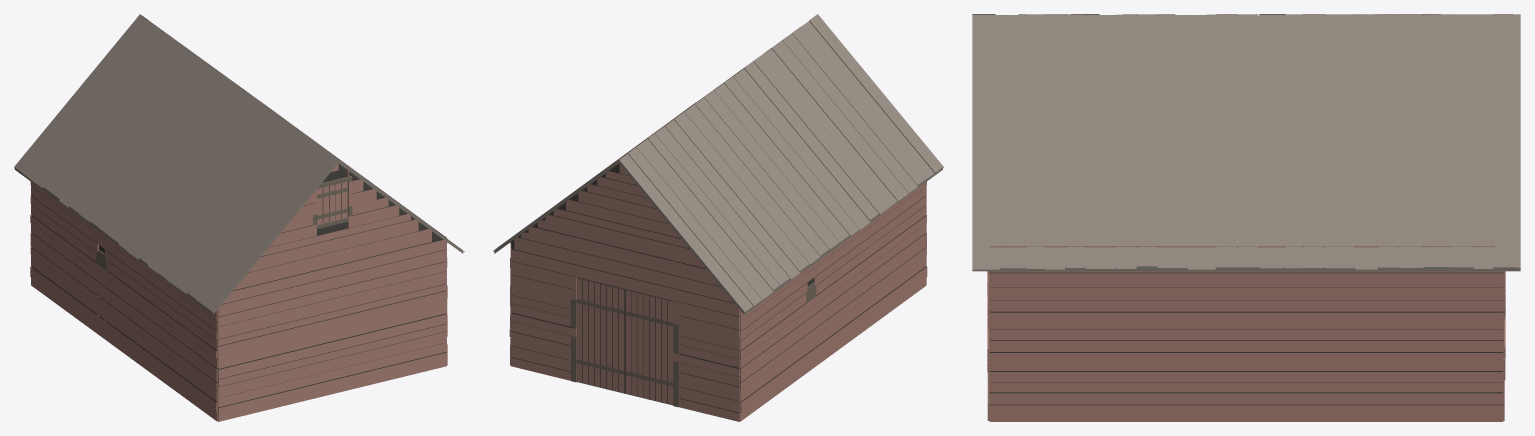
File: recon_1835_north_a2_033__inferred_1835.glb
3 views of the same model, side by side, from view 1: azimuth 30°, elevation 25°; view 2: azimuth 150°, elevation 25°; view 3: azimuth 270°, elevation 25° (orthographic). The views are drawn at different scales.
Visible parts, largest first — view 1: recon_1835_north_a2_033__inferred_1835; view 2: recon_1835_north_a2_033__inferred_1835; view 3: recon_1835_north_a2_033__inferred_1835.
Boxes of the visible parts, bbox=[...] form: recon_1835_north_a2_033__inferred_1835: bbox=[14, 14, 464, 421]; recon_1835_north_a2_033__inferred_1835: bbox=[493, 14, 943, 421]; recon_1835_north_a2_033__inferred_1835: bbox=[972, 14, 1520, 421].
Bounding box in the file's own units: 7.59 × 6.84 × 10.3.
